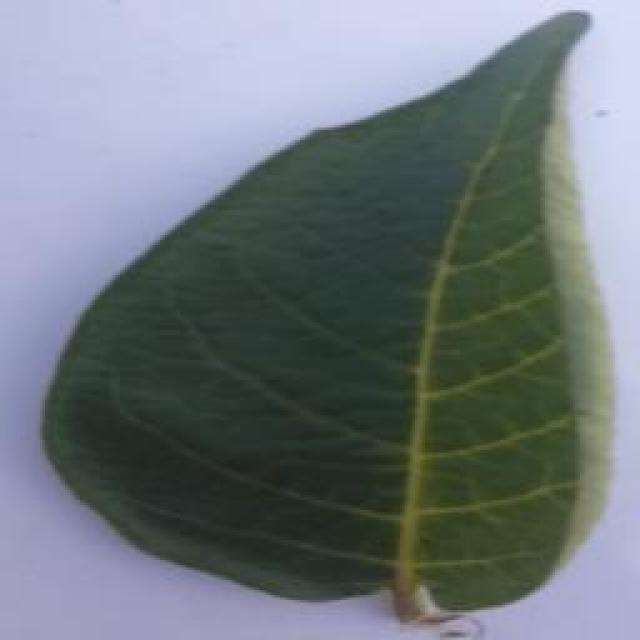Potato_Healthy: (39, 11, 607, 624)
